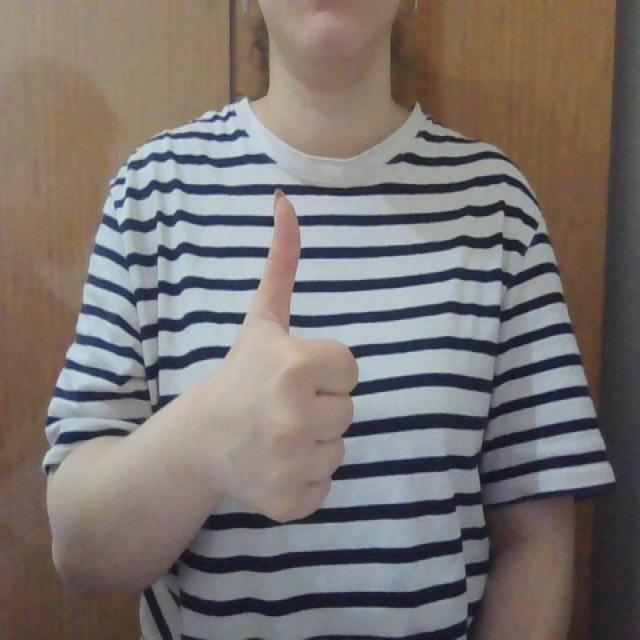Tamam: (205, 182, 370, 528)
